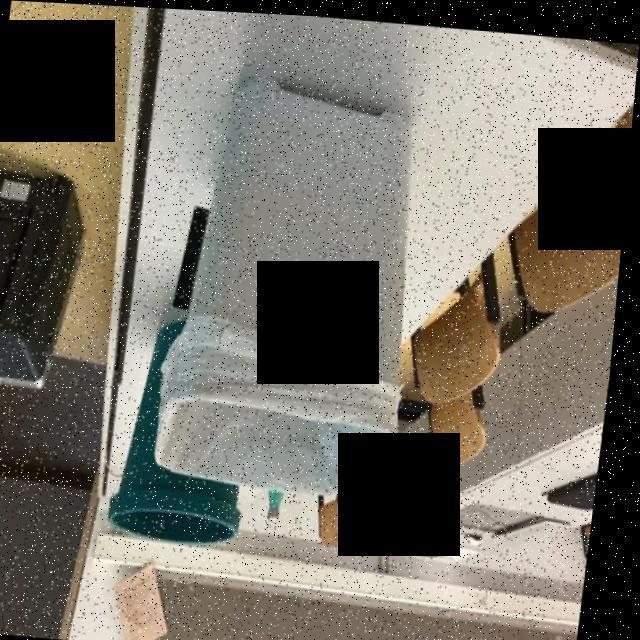bin: (147, 47, 467, 488)
